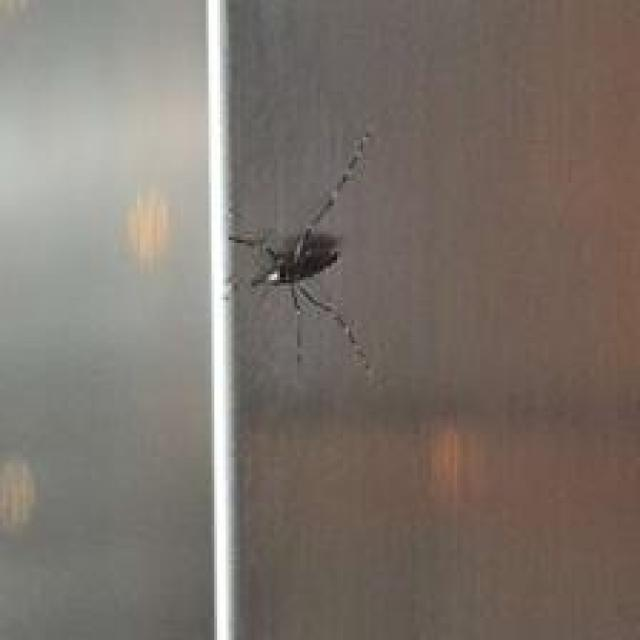Aedes albopictus: (226, 129, 374, 377)
